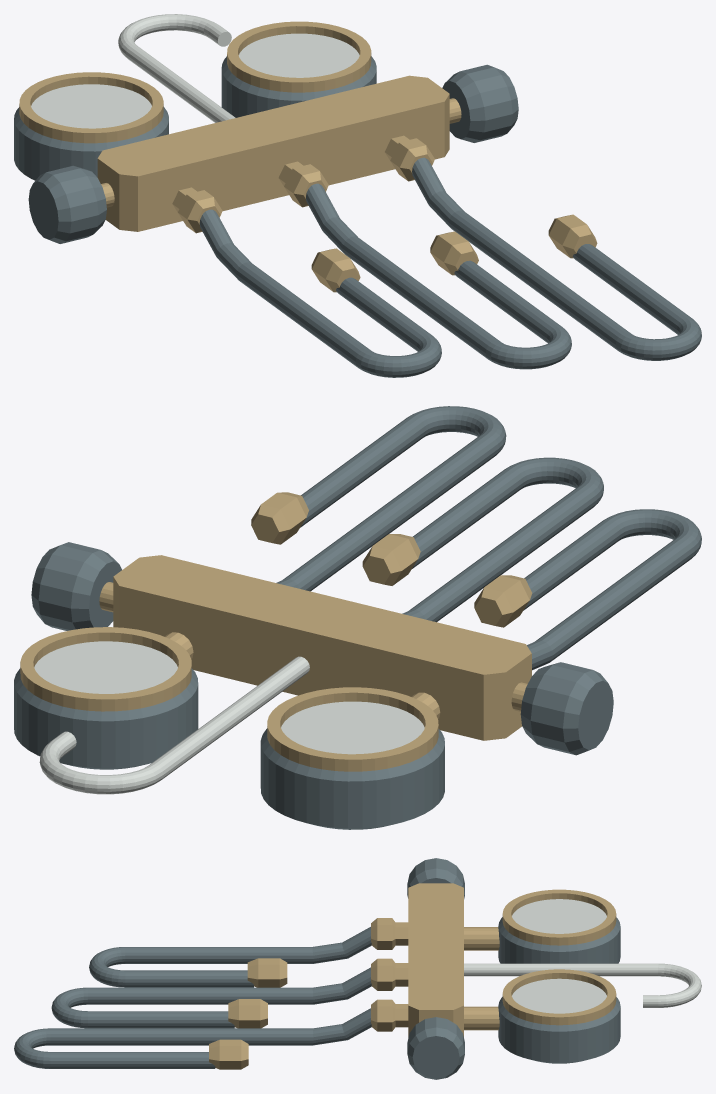
3 renders of one model, top to bottom at view 1: azimuth 30°, elevation 25°; view 2: azimuth 150°, elevation 25°; view 3: azimuth 270°, elevation 25°, orthographic. The views are drawn at different scales.
Visible parts, largest first — view 1: WholeShortManifoldBody, WholeConnectedHose_2, WholeConnectedHose_1, WholeConnectedHose_0, WholeSideHandKnob_-1, WholeRaisedBezel_-1, WholeRaisedBezel_1, WholeSideHandKnob_1, WholeRecessedBlankFace_-1, WholeRecessedBlankFace_1, WholeOpenHangingHook, WholeRoundGaugeCase_-1 (+7 smaller); view 2: WholeShortManifoldBody, WholeConnectedHose_2, WholeConnectedHose_1, WholeRoundGaugeCase_-1, WholeConnectedHose_0, WholeRoundGaugeCase_1, WholeSideHandKnob_-1, WholeOpenHangingHook, WholeRaisedBezel_1, WholeRaisedBezel_-1, WholeSideHandKnob_1, WholeRecessedBlankFace_-1 (+4 smaller); view 3: WholeConnectedHose_2, WholeConnectedHose_1, WholeShortManifoldBody, WholeConnectedHose_0, WholeRoundGaugeCase_1, WholeOpenHangingHook, WholeRoundGaugeCase_-1, WholeSideHandKnob_1, WholeRaisedBezel_1, WholeRaisedBezel_-1, WholeRecessedBlankFace_1, WholeRecessedBlankFace_-1 (+9 smaller).
Boxes of the visible parts, left/top/right/bottom form: WholeShortManifoldBody: left=97, top=75, right=449, bottom=231; WholeConnectedHose_2: left=412, top=157, right=701, bottom=360; WholeConnectedHose_1: left=306, top=183, right=571, bottom=369; WholeConnectedHose_0: left=199, top=209, right=441, bottom=377; WholeSideHandKnob_-1: left=28, top=165, right=106, bottom=243; WholeRaisedBezel_-1: left=19, top=72, right=163, bottom=143; WholeRaisedBezel_1: left=227, top=21, right=371, bottom=92; WholeSideHandKnob_1: left=442, top=64, right=518, bottom=142; WholeRecessedBlankFace_-1: left=31, top=84, right=151, bottom=128; WholeRecessedBlankFace_1: left=238, top=33, right=359, bottom=77; WholeOpenHangingHook: left=118, top=14, right=235, bottom=122; WholeRoundGaugeCase_-1: left=14, top=107, right=168, bottom=180; WholeShortManifoldBody: left=113, top=555, right=531, bottom=740; WholeConnectedHose_2: left=276, top=406, right=506, bottom=591; WholeConnectedHose_1: left=402, top=457, right=603, bottom=622; WholeRoundGaugeCase_-1: left=260, top=728, right=444, bottom=829; WholeConnectedHose_0: left=523, top=509, right=701, bottom=670; WholeRoundGaugeCase_1: left=14, top=668, right=198, bottom=769; WholeSideHandKnob_-1: left=520, top=662, right=613, bottom=755; WholeOpenHangingHook: left=39, top=656, right=309, bottom=794; WholeRaisedBezel_1: left=20, top=627, right=191, bottom=711; WholeRaisedBezel_-1: left=267, top=687, right=438, bottom=771; WholeSideHandKnob_1: left=31, top=542, right=121, bottom=630; WholeRecessedBlankFace_-1: left=281, top=701, right=424, bottom=754; WholeConnectedHose_2: left=14, top=1008, right=371, bottom=1068; WholeConnectedHose_1: left=51, top=967, right=371, bottom=1028; WholeShortManifoldBody: left=408, top=883, right=463, bottom=1037; WholeConnectedHose_0: left=89, top=927, right=371, bottom=987; WholeRoundGaugeCase_1: left=498, top=997, right=620, bottom=1063; WholeOpenHangingHook: left=464, top=963, right=701, bottom=1007; WholeRoundGaugeCase_-1: left=498, top=917, right=620, bottom=963; WholeSideHandKnob_1: left=407, top=1017, right=464, bottom=1079; WholeRaisedBezel_1: left=502, top=969, right=616, bottom=1025; WholeRaisedBezel_-1: left=502, top=889, right=616, bottom=945; WholeRecessedBlankFace_1: left=512, top=978, right=606, bottom=1013; WholeRecessedBlankFace_-1: left=512, top=899, right=606, bottom=933.
Bounding box in the file's own units: 0.39 × 0.063 × 0.642.
